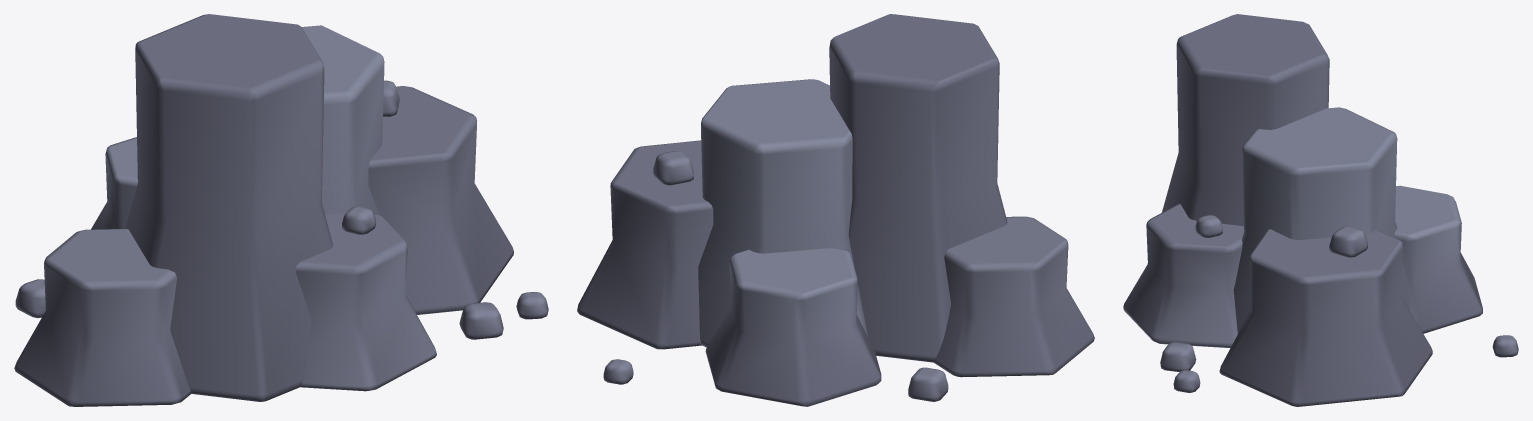
The model's file is rocks-a.glb.
3 views of the same model, side by side, from view 1: azimuth 30°, elevation 25°; view 2: azimuth 150°, elevation 25°; view 3: azimuth 270°, elevation 25° (orthographic). The views are drawn at different scales.
Visible parts, largest first — view 1: rocks-a; view 2: rocks-a; view 3: rocks-a.
Boxes of the visible parts, x1,y1,x2,y2 form: rocks-a: [14, 14, 548, 406]; rocks-a: [577, 14, 1094, 406]; rocks-a: [1123, 14, 1518, 406].
Bounding box in the file's own units: 5.04 × 2.9 × 4.31.
1 material, 1 textured.
